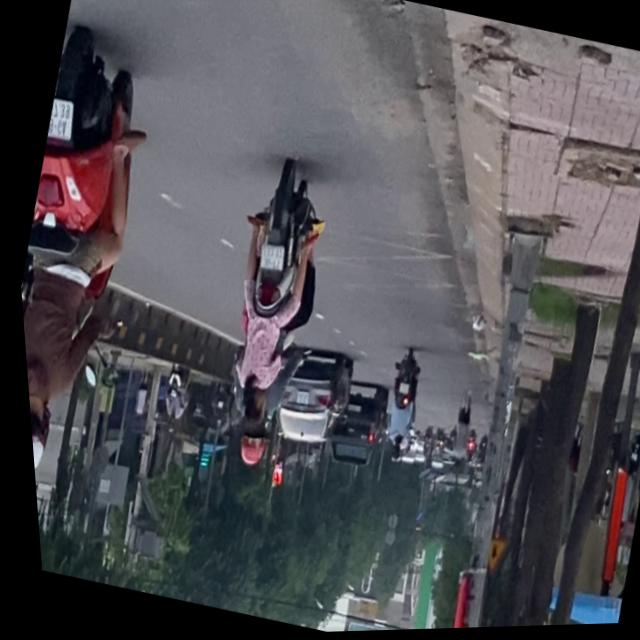helmet: (23, 394, 51, 476), (223, 419, 263, 470)
licenseplate: (1, 20, 188, 490), (176, 154, 351, 479)
motorcyclist: (226, 379, 264, 431)
nohelmet: (42, 97, 75, 140), (251, 242, 281, 274)
